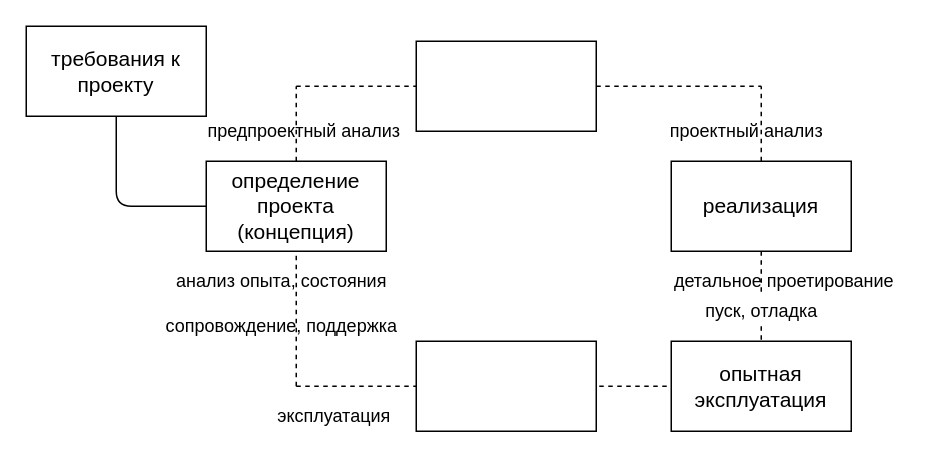
This 938x458 diagram has some shape labels left out. The centre of each missing label's shape, as x and y in pixels:
"завершение проекта" belongs at (x=505, y=385).
"разработка проекта" belongs at (x=505, y=85).
